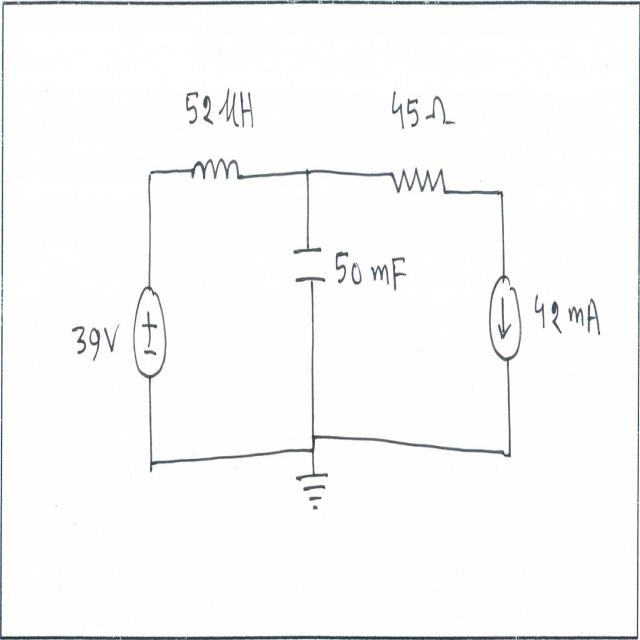capacitor: (288, 240, 330, 292)
current_source: (487, 270, 524, 366)
ground: (290, 464, 337, 516)
inductor: (185, 155, 249, 192)
resistor: (386, 152, 452, 205)
voltage_source: (132, 284, 168, 382)
